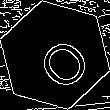O_NW: (21, 21, 89, 89)
